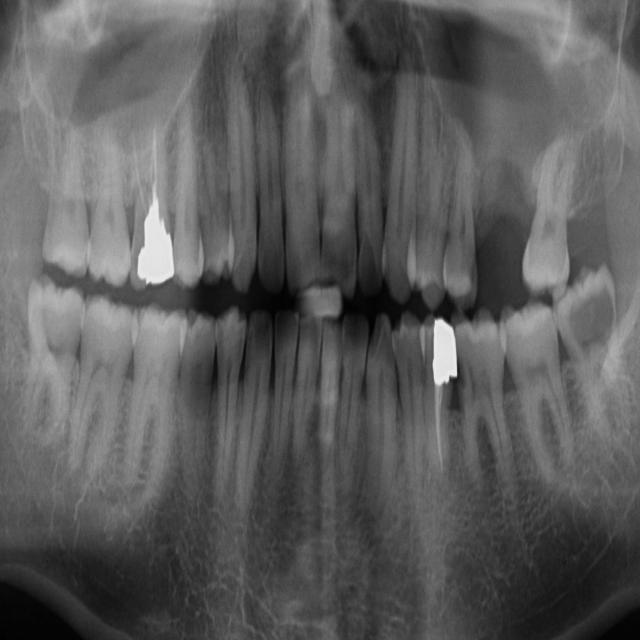dentin-curugu: (565, 283, 619, 351), (335, 312, 373, 355), (356, 237, 379, 288), (272, 309, 298, 350), (245, 319, 272, 349)
kanal-tedavisi: (416, 386, 466, 482), (128, 112, 174, 211)
kaplama: (130, 206, 178, 283), (427, 315, 458, 380)
